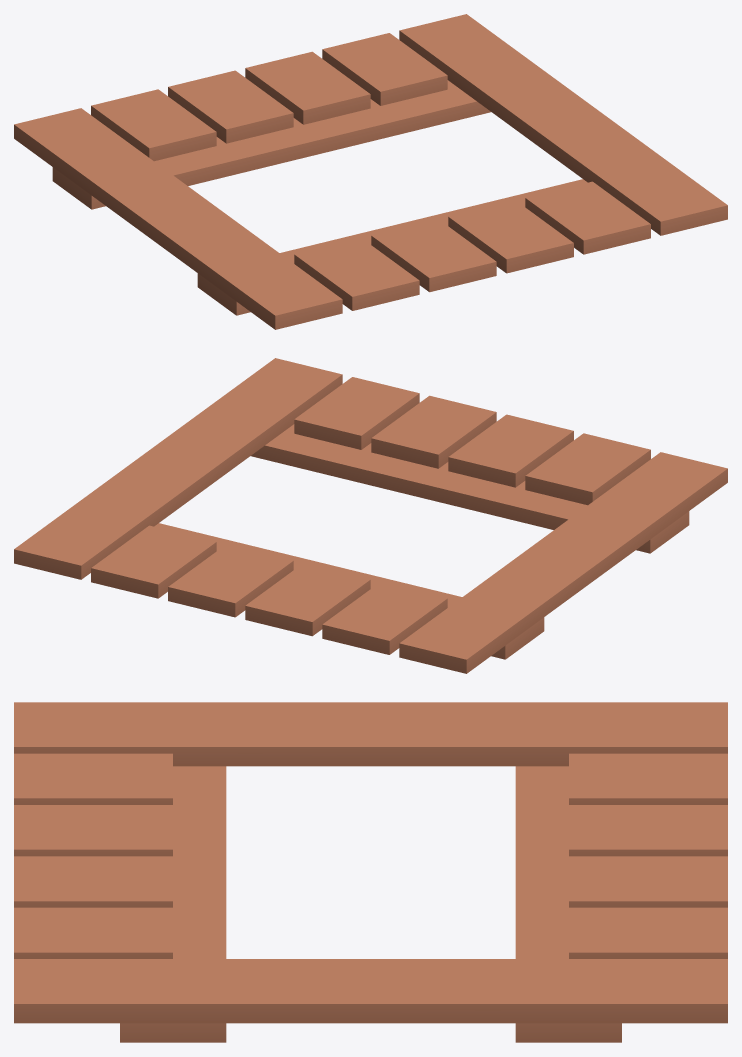
The model's file is planks-opening.glb.
3 views of the same model, one above another, from view 1: azimuth 30°, elevation 25°; view 2: azimuth 150°, elevation 25°; view 3: azimuth 270°, elevation 25° (orthographic). The views are drawn at different scales.
Visible parts, largest first — view 1: planks-opening; view 2: planks-opening; view 3: planks-opening.
Boxes of the visible parts, x1,y1,x2,y2 form: planks-opening: (14, 14, 727, 329); planks-opening: (14, 358, 727, 673); planks-opening: (14, 702, 727, 1042).
Size of the model in its own units: 1 by 0.0599 by 1.
Materials: 1 (1 with a texture image).
